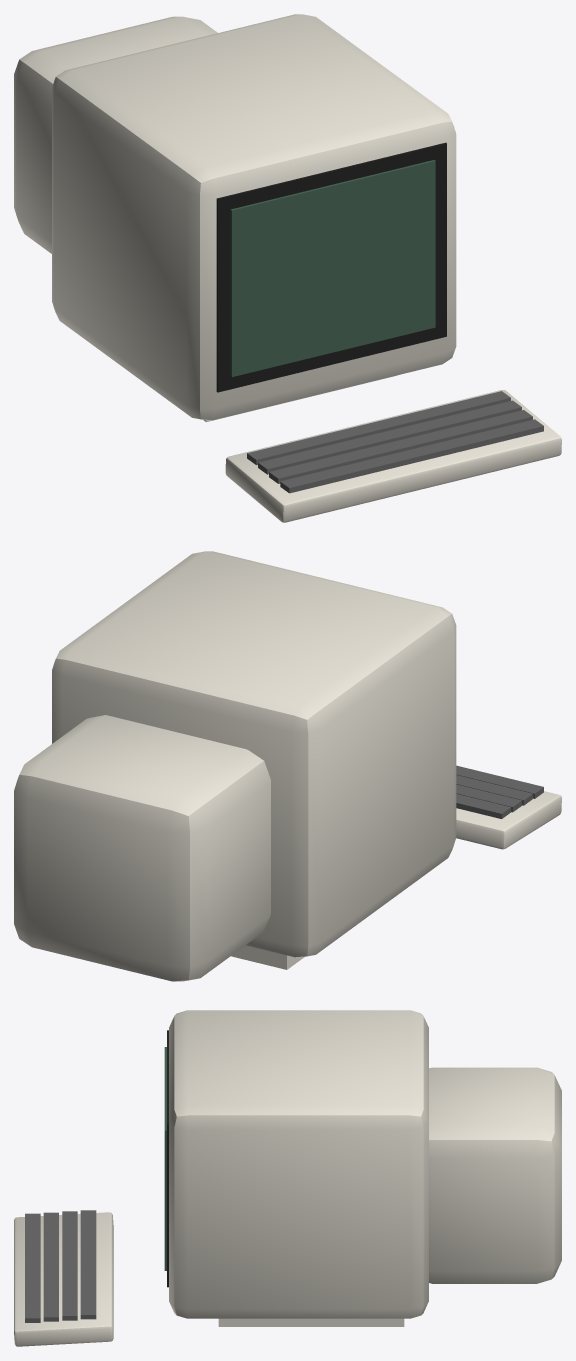
File: computer_terminal.glb
3 views of the same model, one above another, from view 1: azimuth 30°, elevation 25°; view 2: azimuth 150°, elevation 25°; view 3: azimuth 270°, elevation 25° (orthographic). The views are drawn at different scales.
Visible parts, largest first — view 1: computer_terminal; view 2: computer_terminal; view 3: computer_terminal.
Boxes of the visible parts, x1,y1,x2,y2 form: computer_terminal: (14, 14, 561, 522); computer_terminal: (14, 551, 561, 981); computer_terminal: (14, 1010, 561, 1346).
Size of what is drawn, in the model's own units: 0.44 by 0.4145 by 0.8855.
